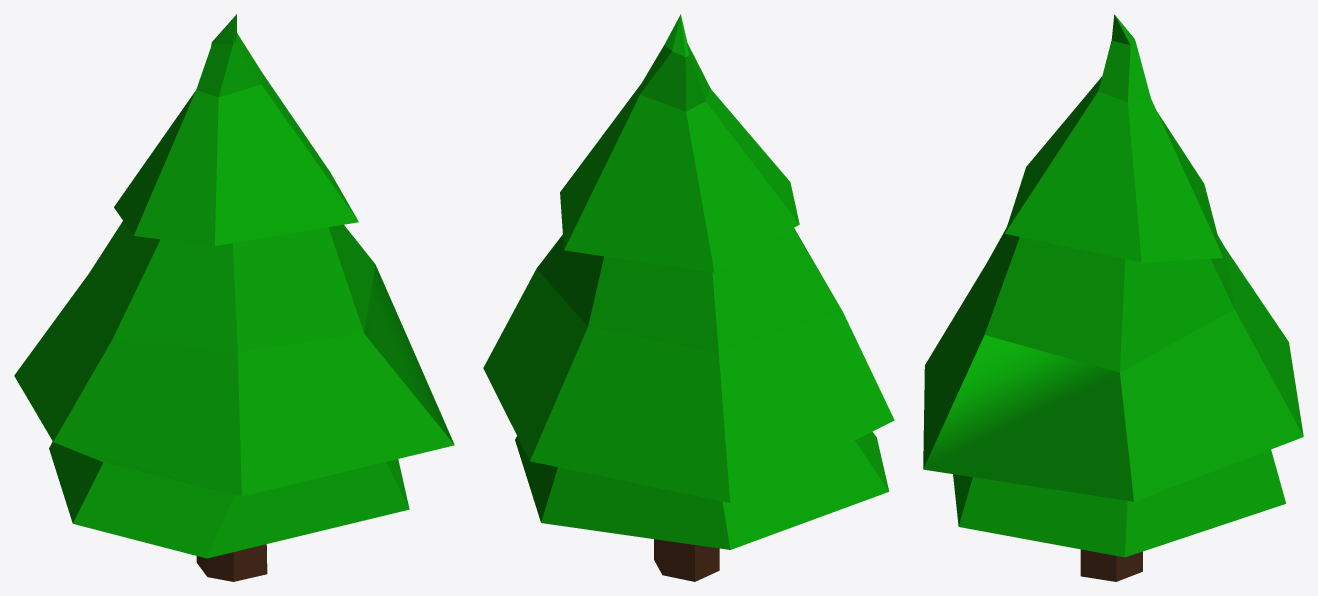
Rendered from grossapin.fbx.
3 views of the same model, side by side, from view 1: azimuth 30°, elevation 25°; view 2: azimuth 150°, elevation 25°; view 3: azimuth 270°, elevation 25° (orthographic).
Parts seen in each view (by area): view 1: Cube; view 2: Cube; view 3: Cube.
Part boxes in pixels (box(x1,y1,x2,y2)): Cube: box(14, 14, 454, 581); Cube: box(483, 14, 894, 581); Cube: box(923, 14, 1303, 581).
Size of the model in its own units: 1033 by 1408 by 874.
